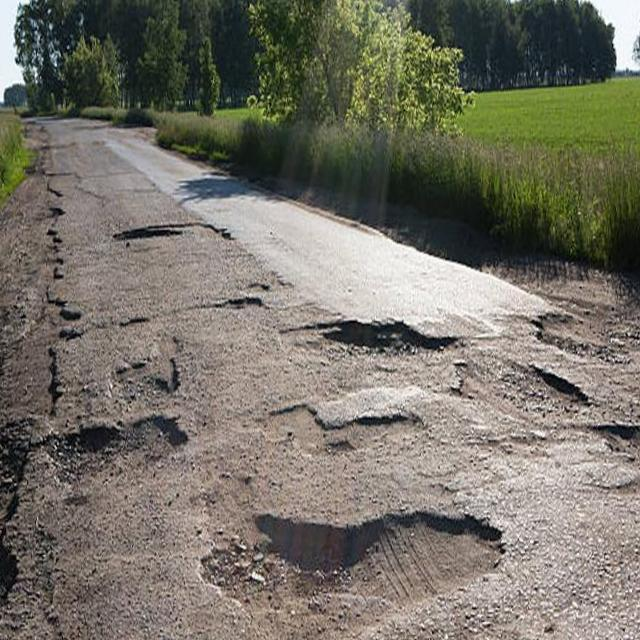Lubang: (209, 512, 499, 637), (43, 421, 192, 487), (256, 407, 432, 453), (460, 359, 584, 420), (323, 320, 454, 372), (110, 221, 228, 252)
Pinggir: (0, 193, 85, 622)
